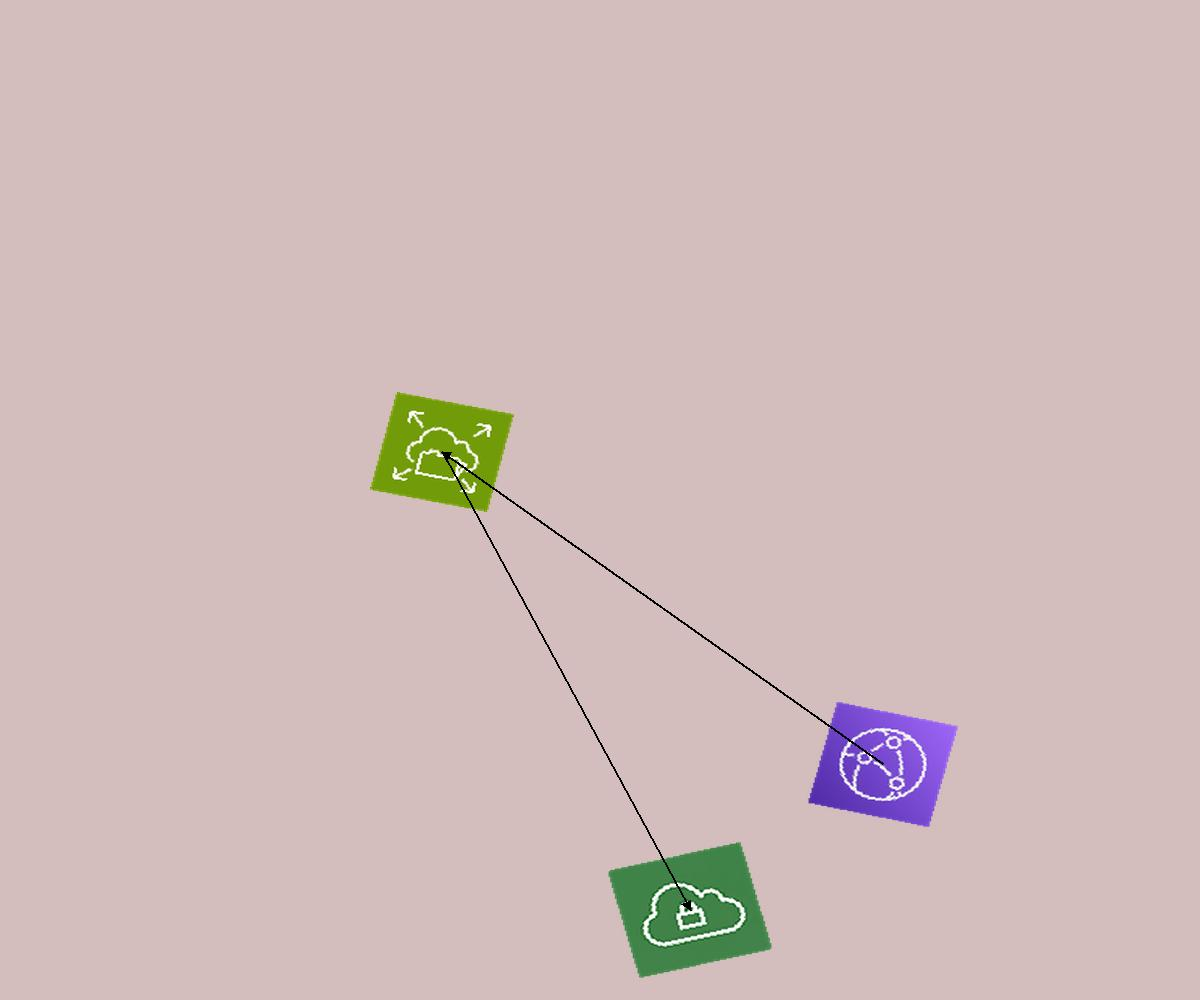AWS-CloudFront: (807, 701, 959, 828)
AWS-EFS: (370, 392, 514, 512)
AWS-Private_vpc: (607, 841, 773, 979)
